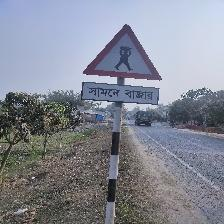Market-in-front: (81, 24, 162, 105)
